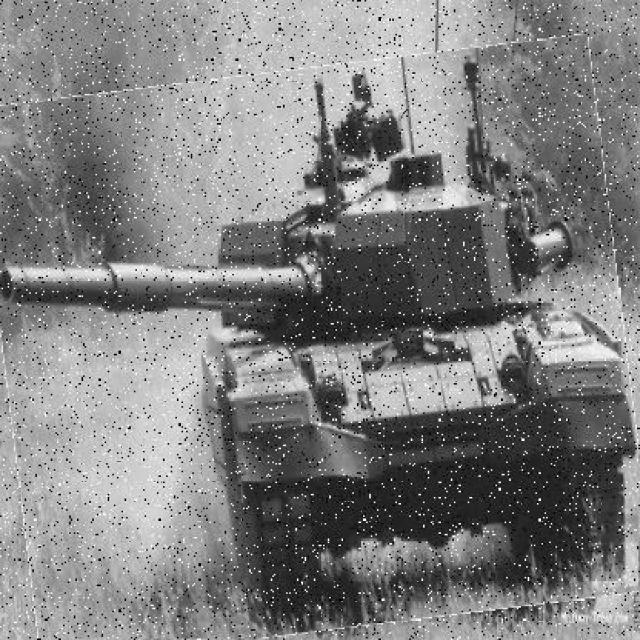Tank: (1, 51, 639, 639)
